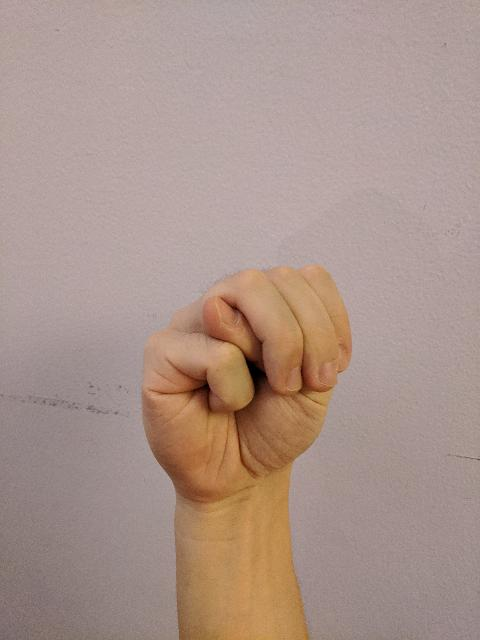M: (133, 255, 360, 502)
